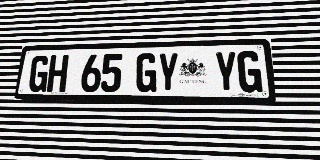5: (100, 54, 123, 92)
6: (80, 54, 103, 92)
G: (237, 51, 263, 93), (135, 53, 157, 92), (28, 55, 50, 92)
H: (46, 55, 69, 92)
Y: (214, 51, 238, 92), (157, 52, 179, 92)
